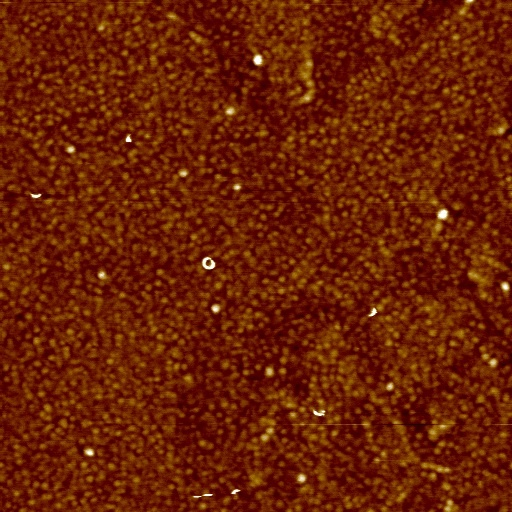-1: (436, 208, 450, 223), (499, 278, 511, 293), (84, 445, 95, 458), (253, 53, 263, 67), (211, 302, 222, 314), (296, 472, 306, 485), (125, 133, 132, 143)
1/4: (190, 491, 214, 500), (367, 305, 381, 318), (28, 189, 44, 200), (310, 409, 331, 417), (229, 485, 242, 497)
4/4: (200, 254, 218, 272)
